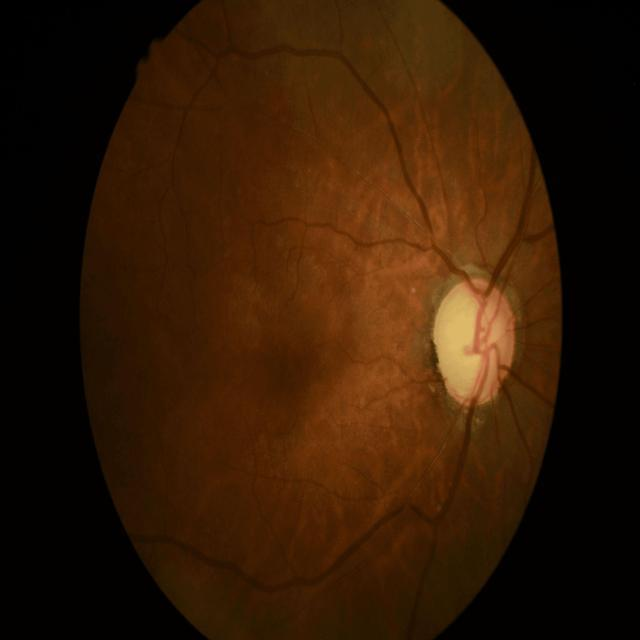cup: (436, 286, 501, 398)
disk: (432, 278, 516, 406)
